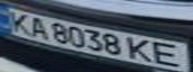0: (66, 24, 84, 49)
3: (84, 27, 106, 53)
8: (103, 30, 127, 57), (48, 20, 69, 45)
A: (24, 15, 51, 39)
E: (148, 39, 190, 69)
K: (124, 36, 157, 63), (3, 9, 33, 34)
